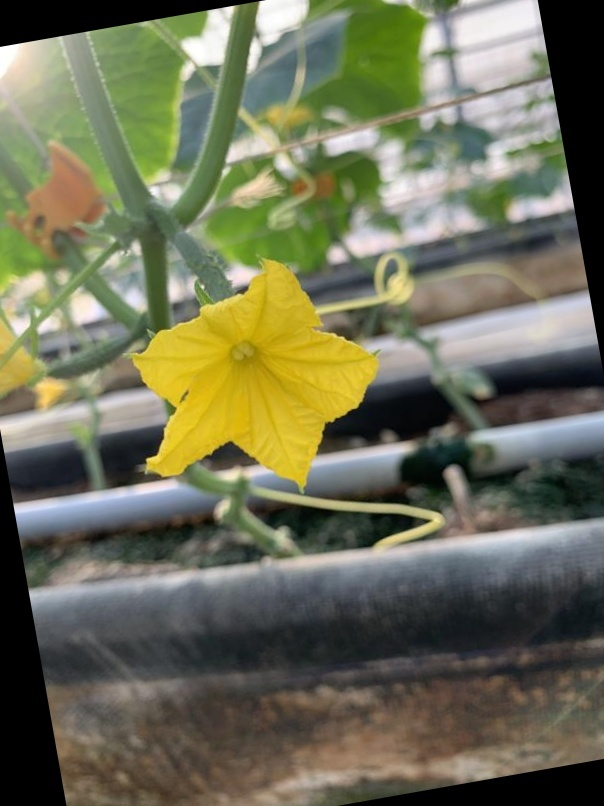flowering: (99, 220, 383, 494)
